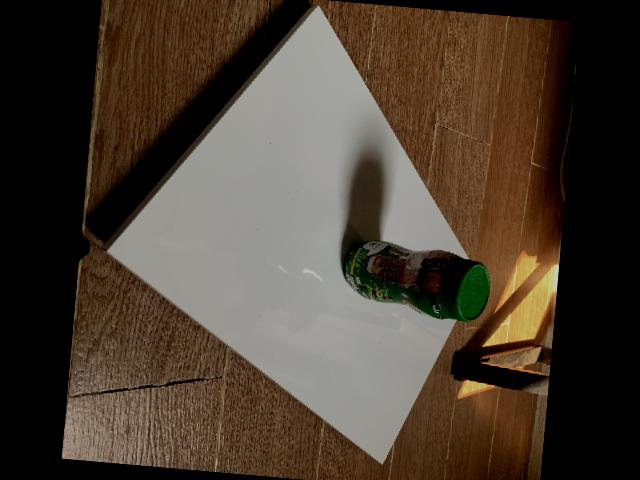milo: (342, 240, 489, 322)
